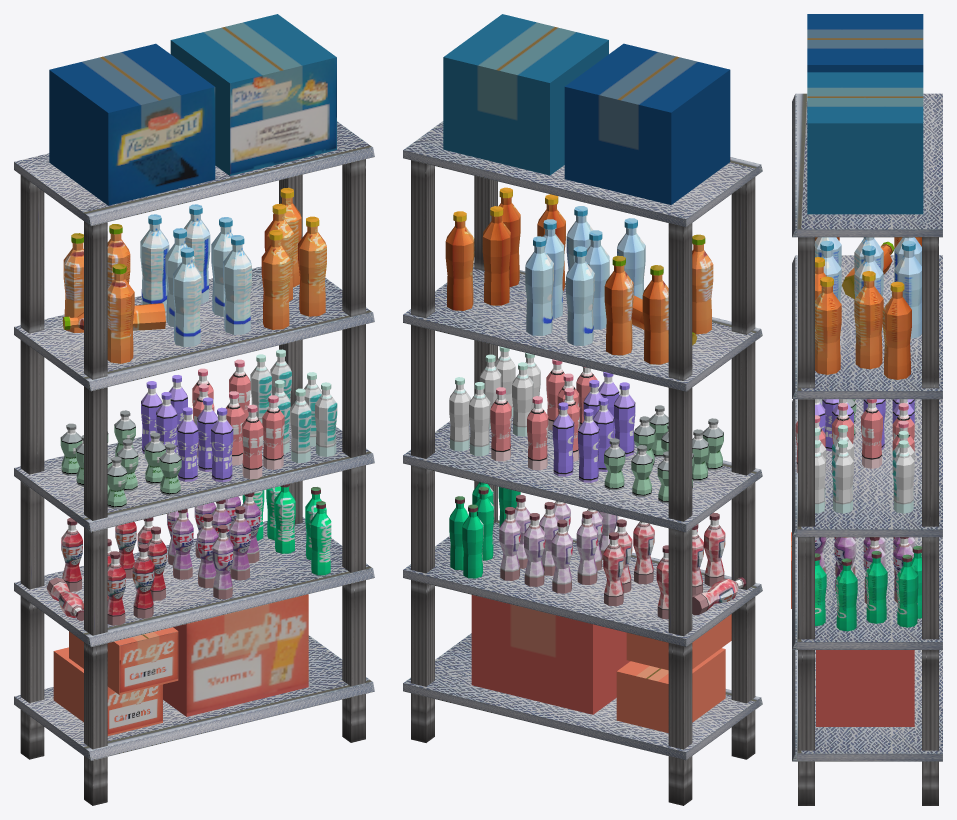
Rendered from plastic bottle shelf 2.FBX.
3 renders of one model, left to right at view 1: azimuth 30°, elevation 25°; view 2: azimuth 150°, elevation 25°; view 3: azimuth 270°, elevation 25°, orthographic. The views are drawn at different scales.
Parts seen in each view (by area): view 1: 紙箱012, 紙箱013, 腳架006, 腳架007, 腳架004, 紙箱009, 板架008, 板架006, 板架007, 板架005, 板架009, 紙箱008 (+48 smaller); view 2: 紙箱012, 紙箱013, 腳架004, 紙箱009, 腳架005, 腳架006, 板架008, 板架007, 板架006, 板架005, 板架009, 紙箱007 (+48 smaller); view 3: 紙箱013, 腳架005, 腳架007, 板架007, 板架009, 紙箱009, 板架008, 紙箱012, 板架006, 板架005, 礦泉水216, 礦泉水215 (+25 smaller).
Boxes of the visible parts, x1,y1,x2,y2 form: 紙箱012: (49, 43, 215, 205); 紙箱013: (170, 14, 336, 175); 腳架006: (84, 221, 107, 805); 腳架007: (342, 159, 365, 742); 腳架004: (20, 175, 44, 759); 紙箱009: (163, 594, 308, 716); 板架008: (14, 266, 374, 391); 板架006: (14, 517, 374, 646); 板架007: (14, 422, 374, 532); 板架005: (14, 635, 374, 760); 板架009: (14, 121, 374, 225); 紙箱008: (69, 627, 178, 694); 紙箱012: (564, 43, 730, 204); 紙箱013: (443, 14, 608, 175); 腳架004: (668, 223, 692, 805); 紙箱009: (471, 595, 630, 714); 腳架005: (411, 160, 434, 742); 腳架006: (731, 177, 755, 759); 板架008: (403, 263, 762, 391); 板架007: (403, 416, 762, 532); 板架006: (403, 520, 762, 646); 板架005: (403, 633, 762, 760); 板架009: (403, 121, 762, 227); 紙箱007: (616, 648, 725, 733); 紙箱013: (807, 72, 923, 214); 腳架005: (922, 237, 938, 805); 腳架007: (798, 237, 814, 805); 板架007: (792, 399, 942, 537); 板架009: (792, 93, 942, 237); 紙箱009: (816, 650, 914, 726); 板架008: (792, 255, 942, 399); 紙箱012: (807, 14, 923, 72); 板架006: (792, 537, 942, 649); 板架005: (792, 650, 942, 761); 礦泉水216: (882, 281, 911, 379); 礦泉水215: (854, 271, 883, 369).
Size of the model in its own units: 566 by 1301 by 267.
16 materials, 16 textured.
